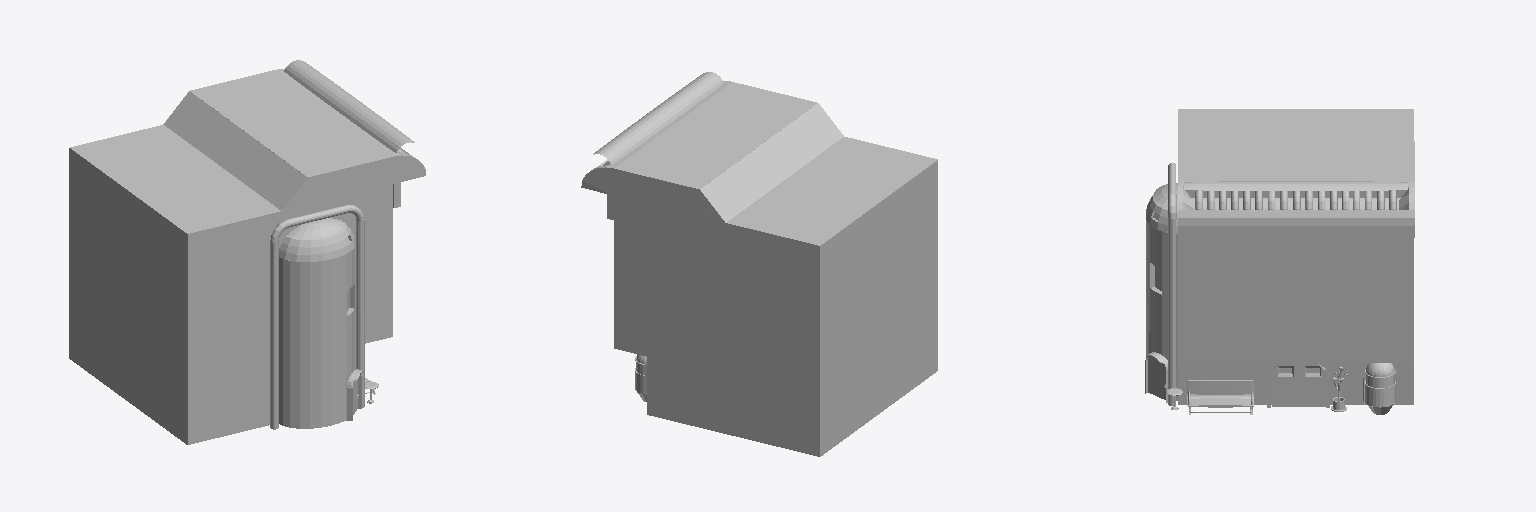
File: Building2.obj
3 views of the same model, side by side, from view 1: azimuth 30°, elevation 25°; view 2: azimuth 150°, elevation 25°; view 3: azimuth 270°, elevation 25° (orthographic).
Parts seen in each view (by area): view 1: Building_Box74; view 2: Building_Box74; view 3: Building_Box74.
Part boxes in pixels (bbox=[...]): Building_Box74: bbox=[69, 60, 425, 444]; Building_Box74: bbox=[581, 72, 937, 456]; Building_Box74: bbox=[1145, 109, 1414, 414].
Size of the model in its own units: 9.13 by 9.05 by 8.93.